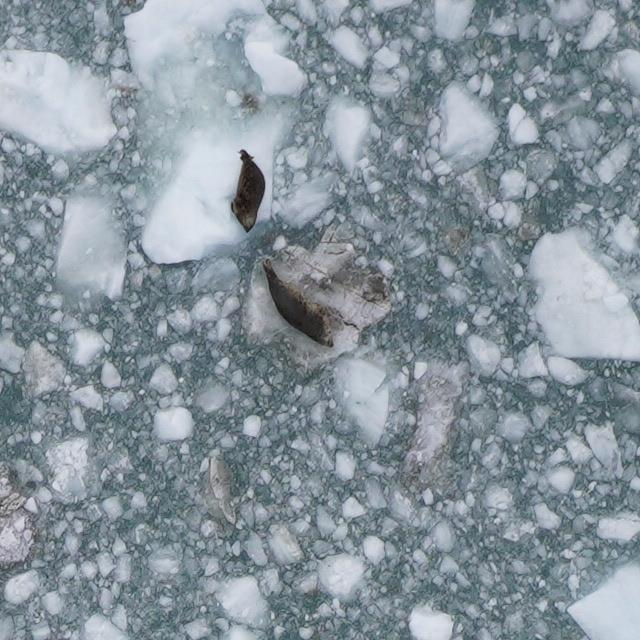seal: (259, 256, 339, 353), (226, 145, 266, 236)
